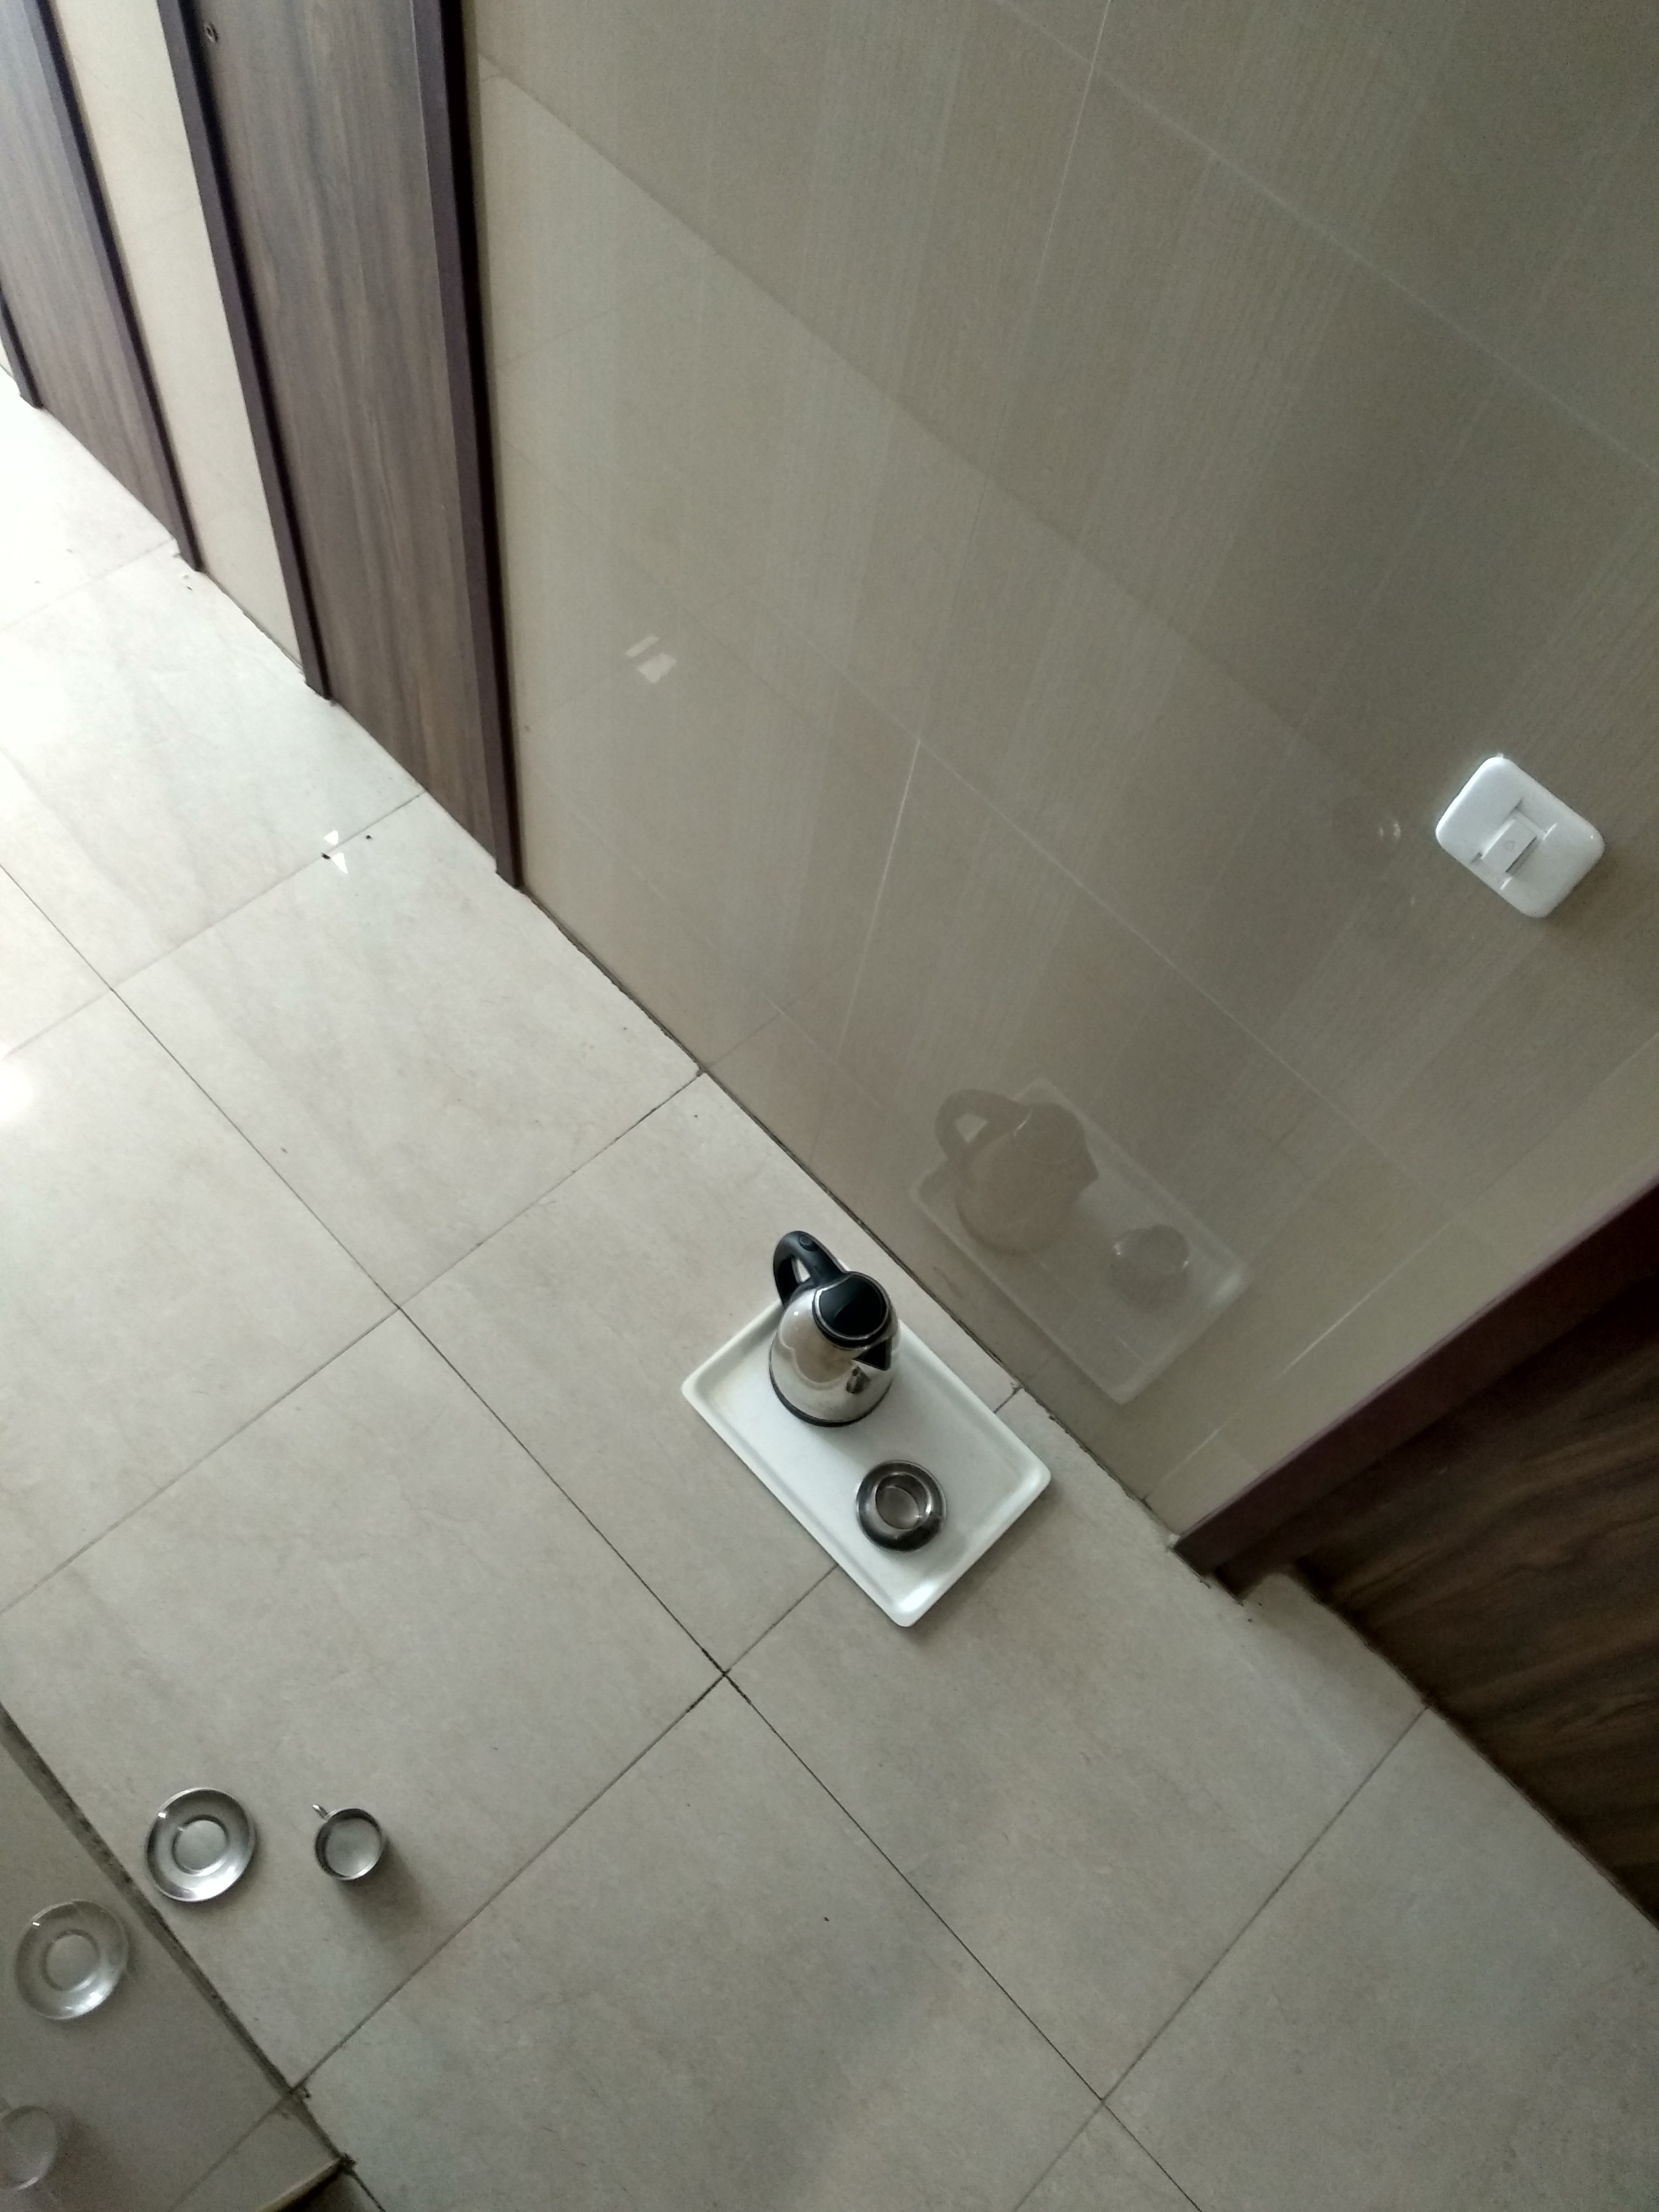CUP: (303, 1806, 408, 1885), (870, 1487, 938, 1552)
FLASK: (760, 1237, 915, 1426)
